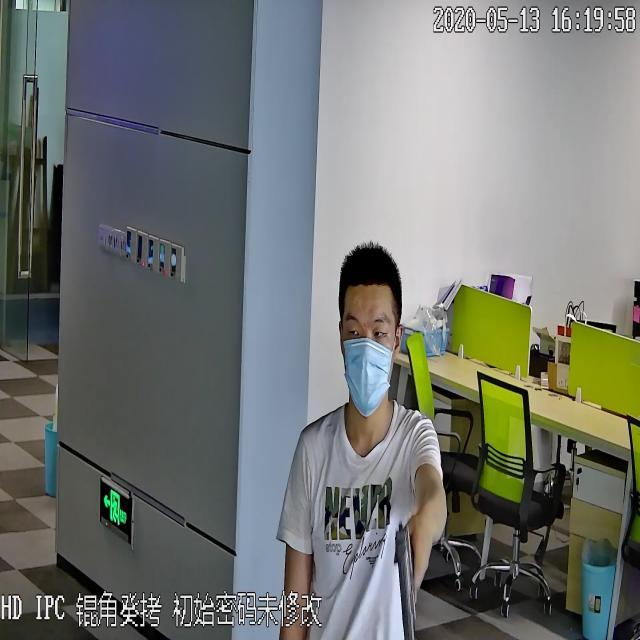gun: (392, 514, 431, 640)
